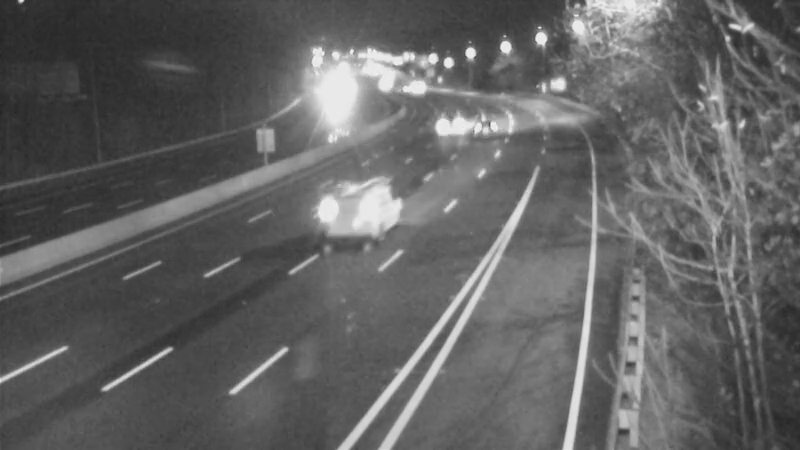vehicle: (313, 163, 393, 243), (391, 63, 441, 113), (375, 63, 425, 113), (420, 96, 470, 146), (457, 102, 507, 152)
